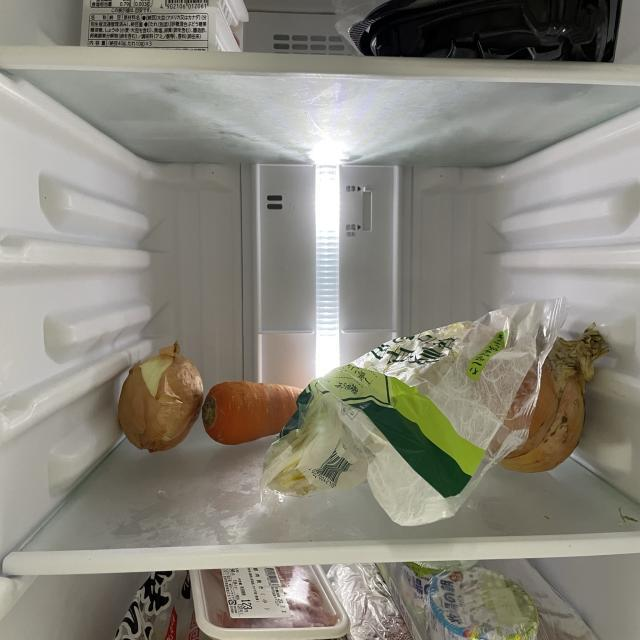carrot: (203, 376, 319, 446)
onion: (494, 332, 602, 476), (109, 338, 205, 456)
